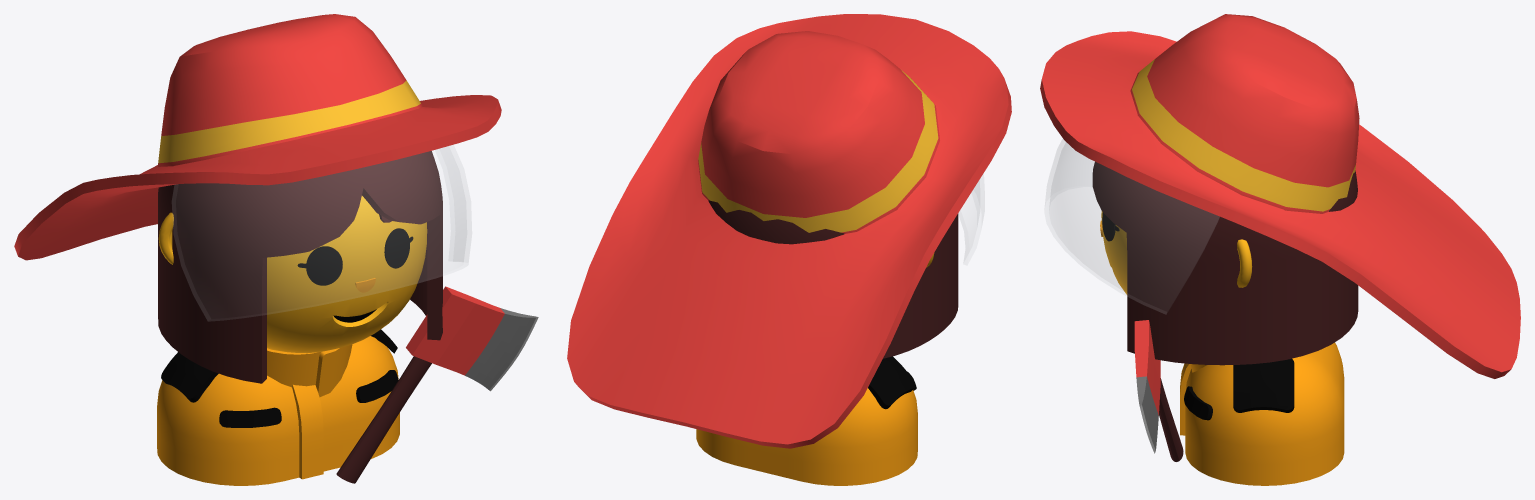
The model's file is woman_firefighter.glb.
3 views of the same model, side by side, from view 1: azimuth 30°, elevation 25°; view 2: azimuth 150°, elevation 25°; view 3: azimuth 270°, elevation 25° (orthographic). The views are drawn at different scales.
Parts seen in each view (by area): view 1: Plane.073, Sphere.111, Roundcube.142, Sphere.109, Roundcube.141, Cube.1773, Circle.769, Circle.761, Sphere.110, Cube.1772, Cylinder.117; view 2: Plane.073, Sphere.109, Roundcube.142, Cube.1772, Sphere.111; view 3: Plane.073, Roundcube.142, Sphere.111, Sphere.109, Cube.1773, Cube.1772, Roundcube.141, Cylinder.117, Sphere.110.
Part boxes in pixels (x1,y1,x2,y2): Plane.073: (14, 14, 501, 260); Sphere.111: (172, 145, 471, 320); Roundcube.142: (158, 151, 442, 383); Sphere.109: (157, 336, 399, 485); Roundcube.141: (267, 196, 427, 353); Cube.1773: (336, 286, 538, 483); Circle.769: (267, 344, 352, 397); Circle.761: (306, 228, 409, 285); Sphere.110: (219, 370, 398, 427); Cube.1772: (161, 329, 397, 402); Cylinder.117: (158, 212, 173, 264); Plane.073: (567, 14, 1011, 448); Sphere.109: (696, 388, 917, 485); Roundcube.142: (708, 200, 958, 358); Cube.1772: (868, 356, 915, 409); Sphere.111: (959, 174, 984, 264); Plane.073: (1040, 14, 1520, 378); Roundcube.142: (1092, 161, 1358, 365); Sphere.111: (1045, 139, 1219, 313); Sphere.109: (1180, 342, 1344, 485); Cube.1773: (1134, 320, 1183, 461); Cube.1772: (1233, 358, 1294, 412); Roundcube.141: (1101, 211, 1127, 294); Cylinder.117: (1237, 239, 1252, 287); Sphere.110: (1184, 386, 1212, 420).
Size of the model in its own units: 2.2 by 2.58 by 2.72.
3 materials, 2 textured.
